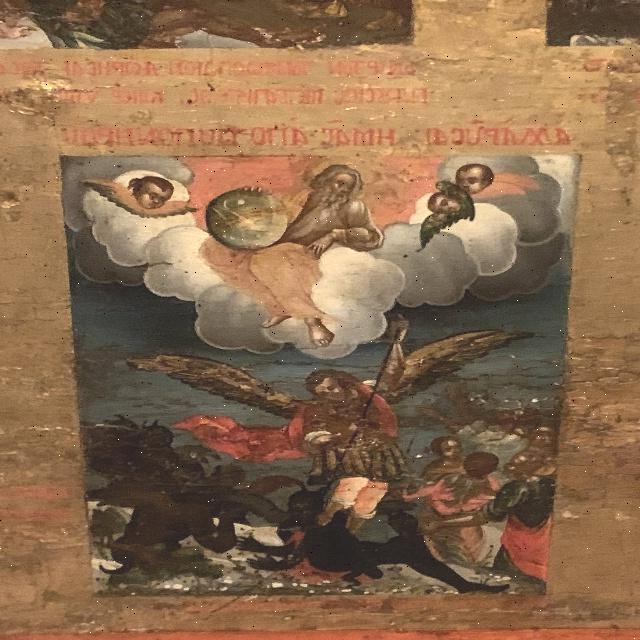angel: (136, 313, 531, 542), (78, 168, 199, 220), (413, 166, 476, 247)
cloud: (382, 227, 473, 306)
father: (199, 157, 390, 364)
orb: (208, 186, 290, 249)
spear: (294, 322, 407, 553)
wing: (382, 323, 536, 404), (125, 349, 298, 418)
